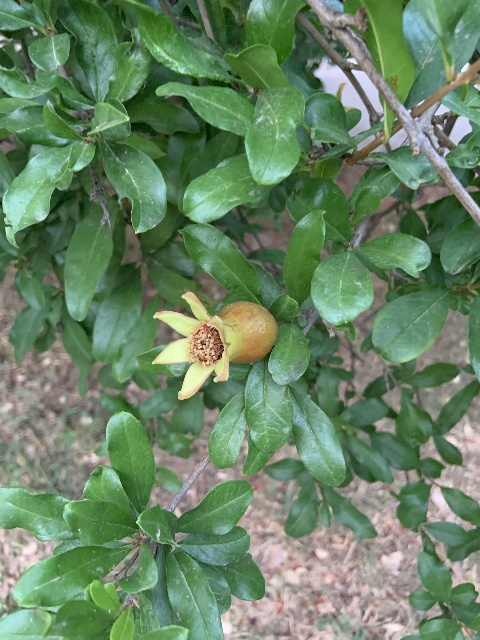early-fruit: (151, 290, 277, 400)
